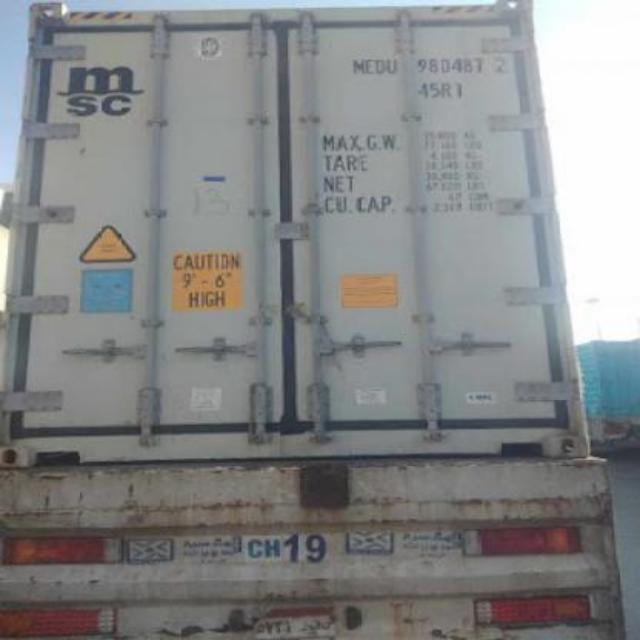0: (440, 56, 452, 74)
2: (490, 53, 508, 77)
4: (448, 51, 460, 74)
7: (468, 54, 486, 74)
8: (460, 49, 472, 76), (428, 54, 440, 76)
9: (408, 54, 428, 74)
D: (374, 48, 386, 76)
E: (366, 49, 376, 76)
M: (350, 57, 366, 73)
U: (386, 54, 396, 76)
